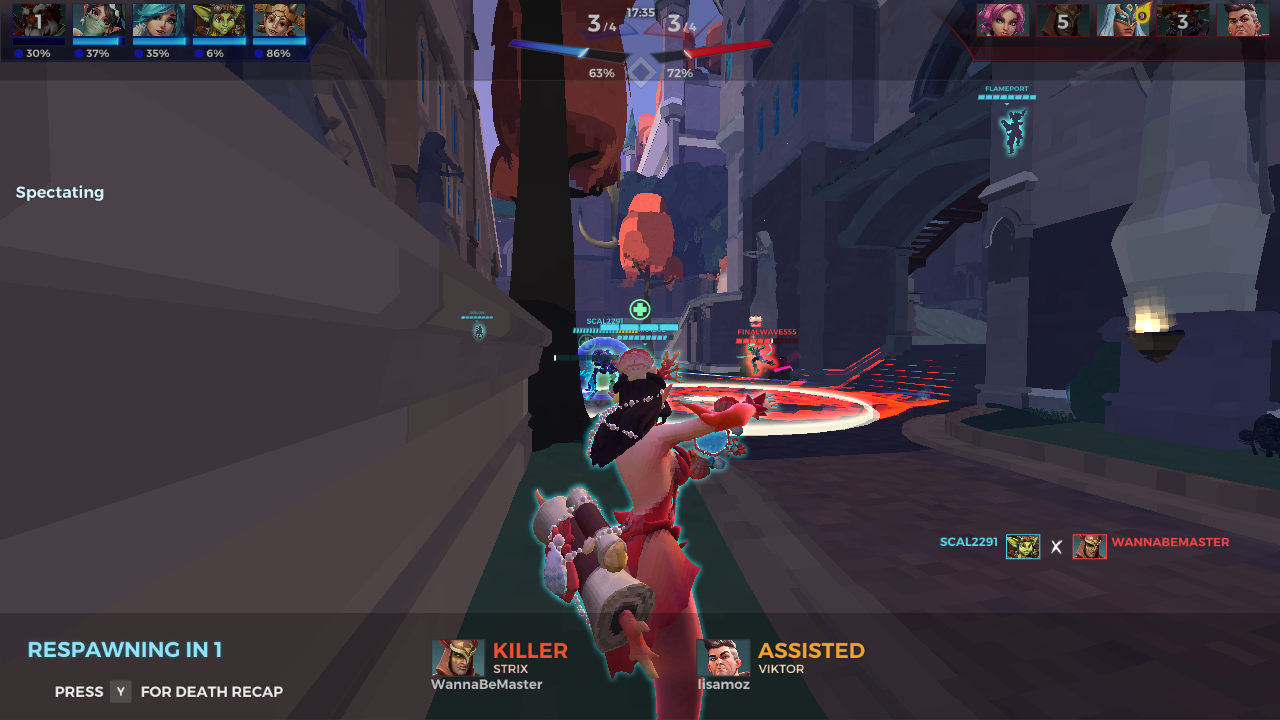model: (740, 341, 776, 380)
